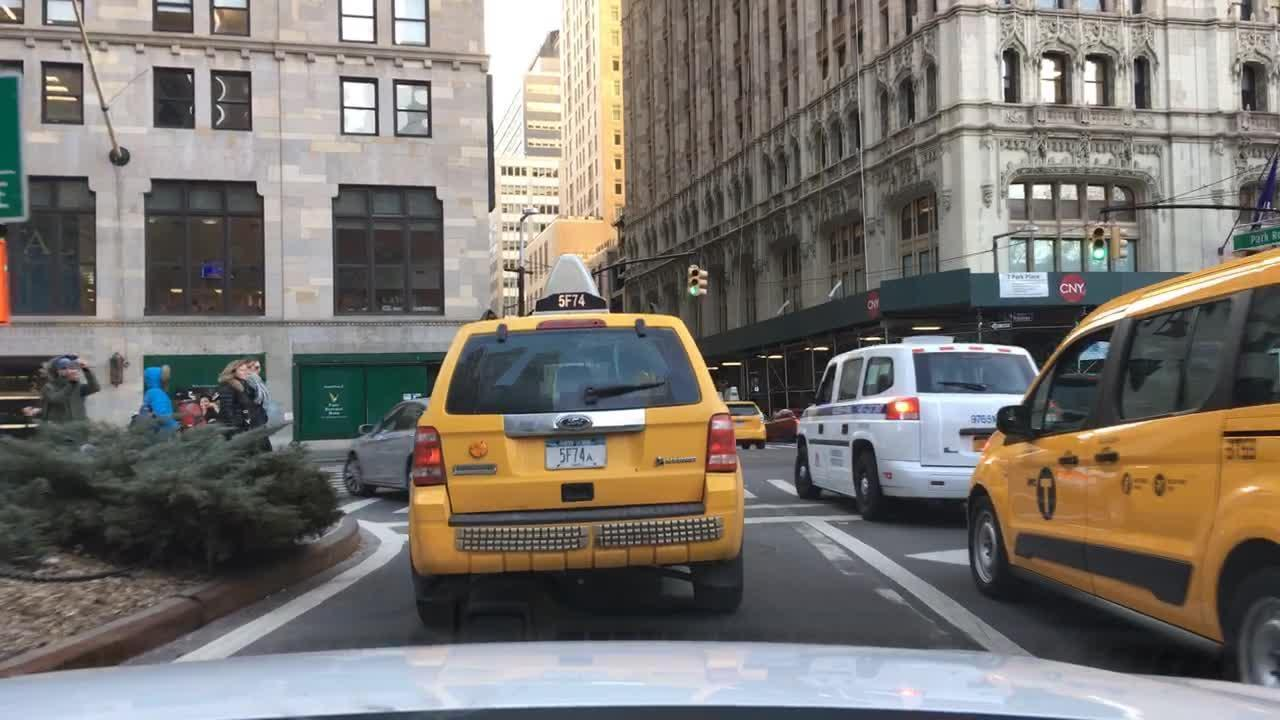ford: (550, 409, 599, 435)
